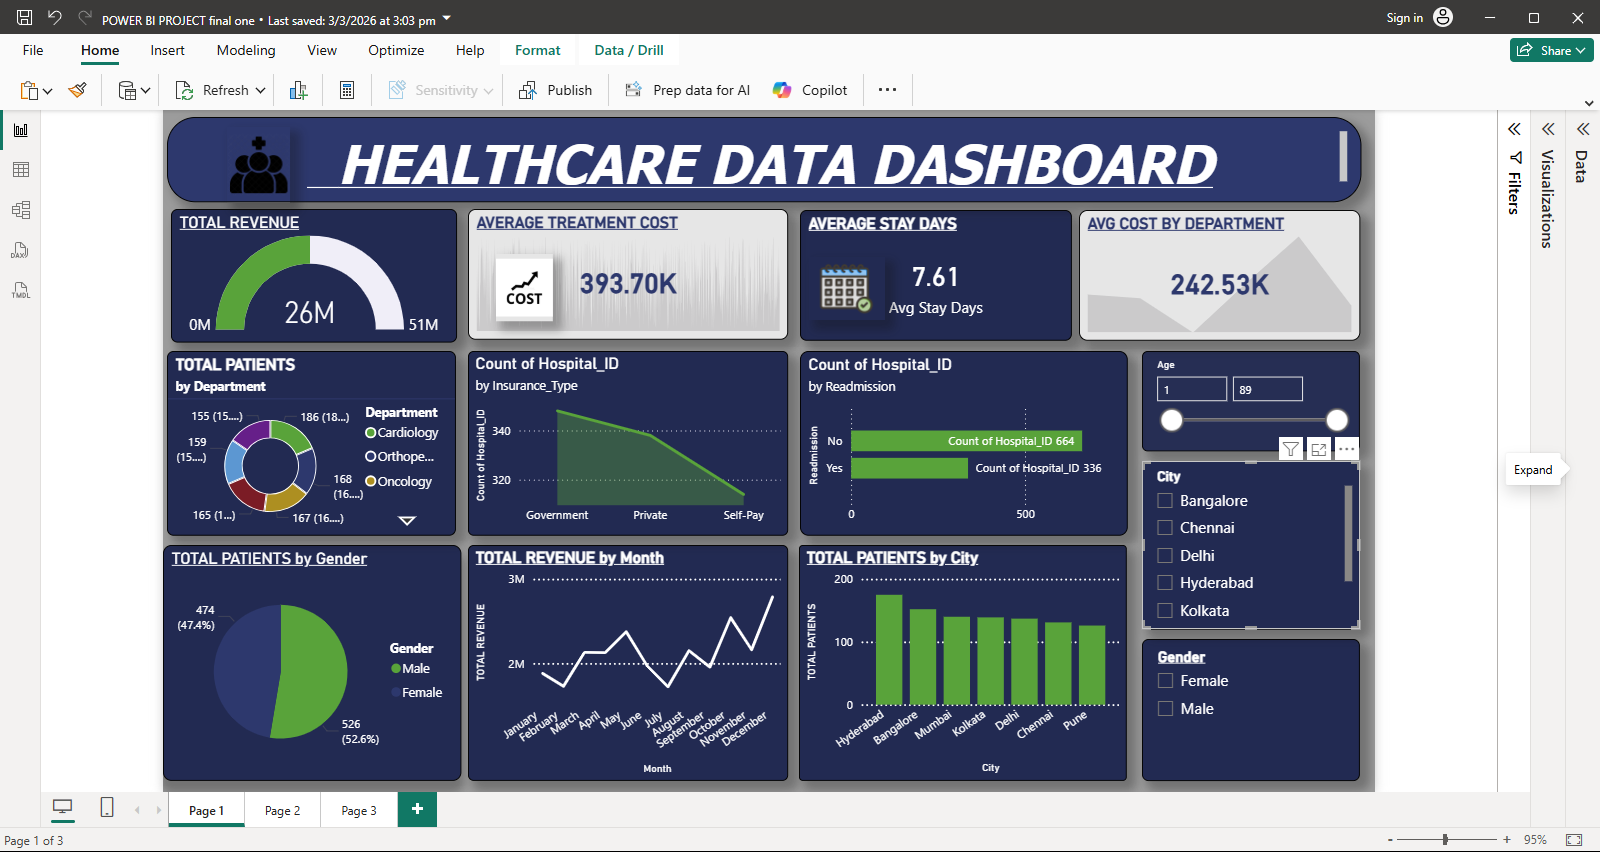

The page's visual inventory and layout, read from the dashboard file:
{"tool":"powerbi","page":{"name":"Page 1","canvas":[1280,720],"ordinal":0},"visuals":[{"type":"card","title":"AVERAGE STAY DAYS","fields":{"Values":["Healthcare_Analytics_.Avg Stay Days"]},"box":[672.2,105.9,287.1,137.8],"z":0},{"type":"pieChart","fields":{"Category":["Healthcare_Analytics_.Gender"],"Y":["Healthcare_Analytics_.TOTAL PATIENTS"]},"box":[0,459.7,314.5,248.5],"z":1000},{"type":"lineChart","fields":{"Category":["Healthcare_Analytics_.Admission_Date.Variation.Date Hierarchy.Month"],"Y":["Healthcare_Analytics_.TOTAL REVENUE"]},"box":[322.4,459.1,338.4,249.5],"z":2000},{"type":"clusteredColumnChart","fields":{"Category":["Healthcare_Analytics_.City"],"Y":["Healthcare_Analytics_.TOTAL PATIENTS"]},"box":[671.9,459.7,346.4,248.5],"z":3000},{"type":"textbox","box":[4.2,7.4,1260.5,89.7],"z":4000},{"type":"gauge","fields":{"Y":["Healthcare_Analytics_.TOTAL REVENUE"]},"box":[8,104.8,301.9,141.3],"z":5000},{"type":"slicer","fields":{"Values":["Healthcare_Analytics_.Gender"]},"box":[1033.8,558.8,230,150],"z":6000},{"type":"slicer","fields":{"Values":["Healthcare_Analytics_.Age"]},"box":[1033.3,254.1,230.1,105.9],"z":7000},{"type":"image","box":[67.6,17.9,66.5,80.2],"z":8000},{"type":"image","box":[682.4,154.9,79.7,67.2],"z":9000},{"type":"slicer","fields":{"Values":["Healthcare_Analytics_.City"]},"box":[1033.3,370.3,230.1,177.7],"z":10000},{"type":"kpi","title":"AVERAGE TREATMENT COST","fields":{"Indicator":["Healthcare_Analytics_.AVERAGE TREATMENT COST"],"TrendLine":["Healthcare_Analytics_.Hospital_ID"]},"box":[322.4,104.8,338.4,137.8],"z":11000},{"type":"image","box":[352,151.5,60.4,70.6],"z":12000},{"type":"kpi","title":" AVG COST BY DEPARTMENT","fields":{"Indicator":["Healthcare_Analytics_.AVERAGE TREATMENT COST"],"TrendLine":["Healthcare_Analytics_.Department"]},"box":[967,105.6,296.7,138.3],"z":13000},{"type":"donutChart","fields":{"Category":["Healthcare_Analytics_.Department"],"Y":["Healthcare_Analytics_.TOTAL PATIENTS"]},"box":[4.6,254.1,305.3,194.8],"z":15000},{"type":"stackedAreaChart","fields":{"Category":["Healthcare_Analytics_.Insurance_Type"],"Y":["CountNonNull(Healthcare_Analytics_.Hospital_ID)"]},"box":[322.4,254.1,338.4,194.8],"z":16000},{"type":"clusteredBarChart","fields":{"Category":["Healthcare_Analytics_.Readmission"],"Y":["CountNonNull(Healthcare_Analytics_.Hospital_ID)"]},"box":[672.2,254.1,346.3,194.8],"z":17000}]}

Visuals, with their boxes on the page's 1280x720 design canvas (x1, y1, x2, y2). These are canvas units, not pixel positions in the 1600x852 screenshot, which may show the page scaled, cropped or inside an application window:
"AVERAGE STAY DAYS" card: {"x1": 672, "y1": 106, "x2": 959, "y2": 244}
pieChart - Healthcare_Analytics_.Gender x Healthcare_Analytics_.TOTAL PATIENTS: {"x1": 0, "y1": 460, "x2": 314, "y2": 708}
lineChart - Healthcare_Analytics_.Admission_Date.Variation.Date Hierarchy.Month x Healthcare_Analytics_.TOTAL REVENUE: {"x1": 322, "y1": 459, "x2": 661, "y2": 709}
clusteredColumnChart - Healthcare_Analytics_.City x Healthcare_Analytics_.TOTAL PATIENTS: {"x1": 672, "y1": 460, "x2": 1018, "y2": 708}
textbox: {"x1": 4, "y1": 7, "x2": 1265, "y2": 97}
gauge - Healthcare_Analytics_.TOTAL REVENUE: {"x1": 8, "y1": 105, "x2": 310, "y2": 246}
slicer - Healthcare_Analytics_.Gender: {"x1": 1034, "y1": 559, "x2": 1264, "y2": 709}
slicer - Healthcare_Analytics_.Age: {"x1": 1033, "y1": 254, "x2": 1263, "y2": 360}
image: {"x1": 68, "y1": 18, "x2": 134, "y2": 98}
image: {"x1": 682, "y1": 155, "x2": 762, "y2": 222}
slicer - Healthcare_Analytics_.City: {"x1": 1033, "y1": 370, "x2": 1263, "y2": 548}
"AVERAGE TREATMENT COST" kpi: {"x1": 322, "y1": 105, "x2": 661, "y2": 243}
image: {"x1": 352, "y1": 152, "x2": 412, "y2": 222}
" AVG COST BY DEPARTMENT" kpi: {"x1": 967, "y1": 106, "x2": 1264, "y2": 244}
donutChart - Healthcare_Analytics_.Department x Healthcare_Analytics_.TOTAL PATIENTS: {"x1": 5, "y1": 254, "x2": 310, "y2": 449}
stackedAreaChart - Healthcare_Analytics_.Insurance_Type x CountNonNull(Healthcare_Analytics_.Hospital_ID): {"x1": 322, "y1": 254, "x2": 661, "y2": 449}
clusteredBarChart - Healthcare_Analytics_.Readmission x CountNonNull(Healthcare_Analytics_.Hospital_ID): {"x1": 672, "y1": 254, "x2": 1018, "y2": 449}
